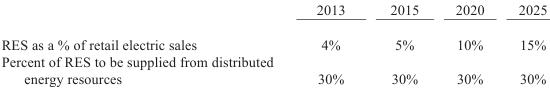table: (0, 1, 546, 85)
table column: (0, 1, 294, 85), (294, 1, 367, 85), (367, 1, 436, 85), (436, 1, 500, 85), (500, 1, 546, 85)
table column header: (0, 1, 546, 26)
table row: (0, 52, 546, 85), (0, 26, 546, 52), (0, 1, 546, 26)
